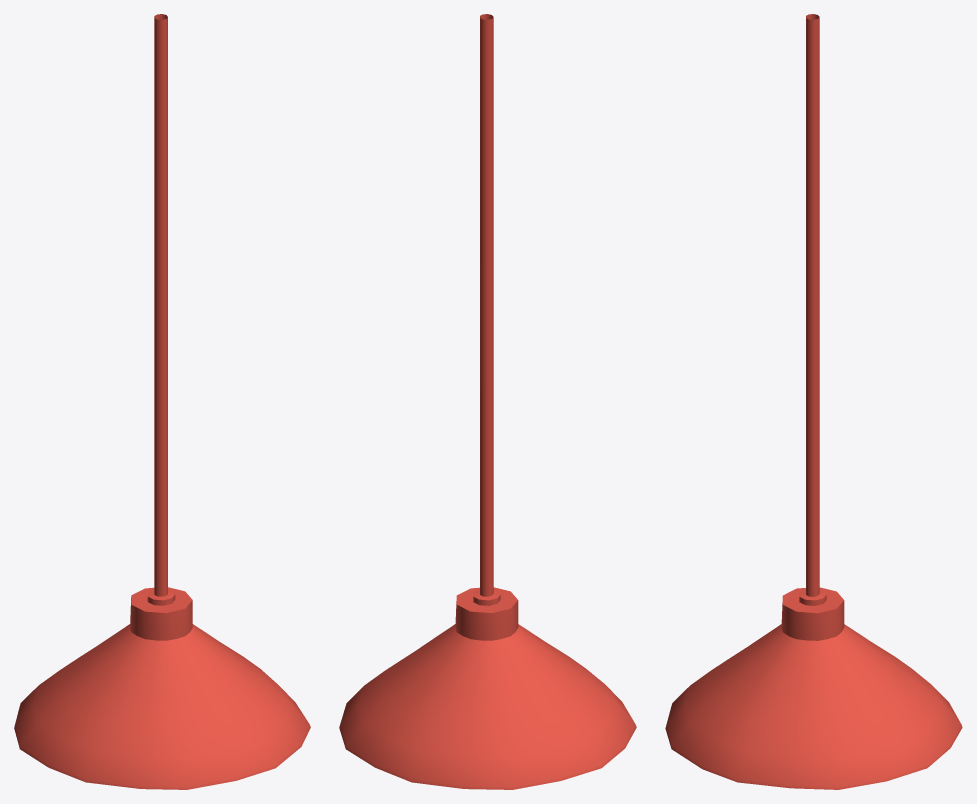
The model's file is light_v1_1_low 1.fbx.
3 renders of one model, left to right at view 1: azimuth 30°, elevation 25°; view 2: azimuth 150°, elevation 25°; view 3: azimuth 270°, elevation 25°, orthographic.
Parts seen in each view (by area): view 1: light_v1_low; view 2: light_v1_low; view 3: light_v1_low.
Part boxes in pixels (x1,y1,x2,y2): light_v1_low: [14, 14, 310, 789]; light_v1_low: [339, 14, 636, 789]; light_v1_low: [665, 14, 962, 789].
Size of the model in its own units: 64.89 by 172 by 65.24.
